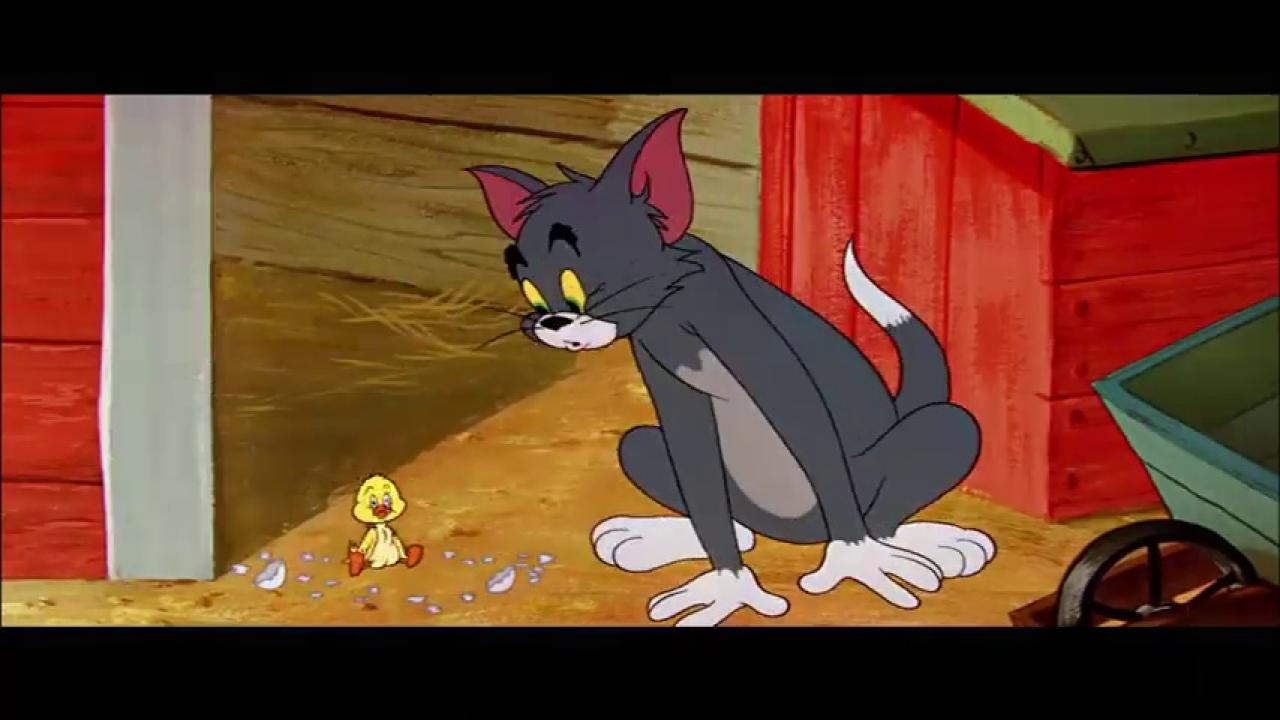Tom: (458, 104, 1001, 626)
